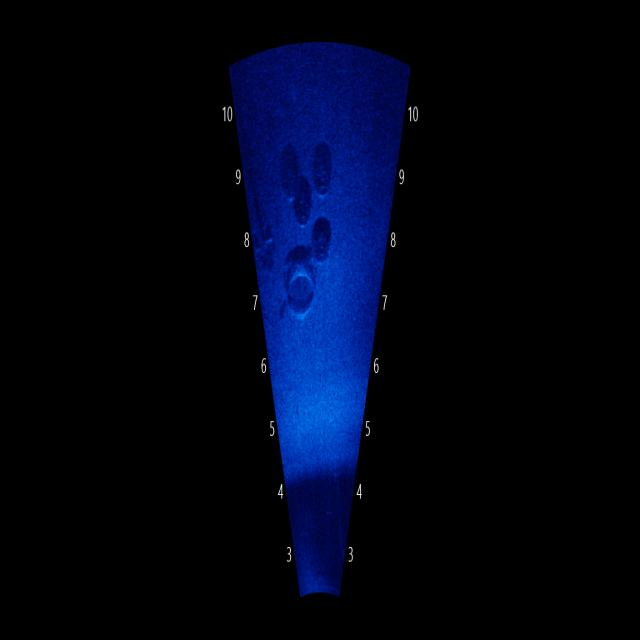circle: (279, 258, 321, 330), (302, 218, 338, 268)
